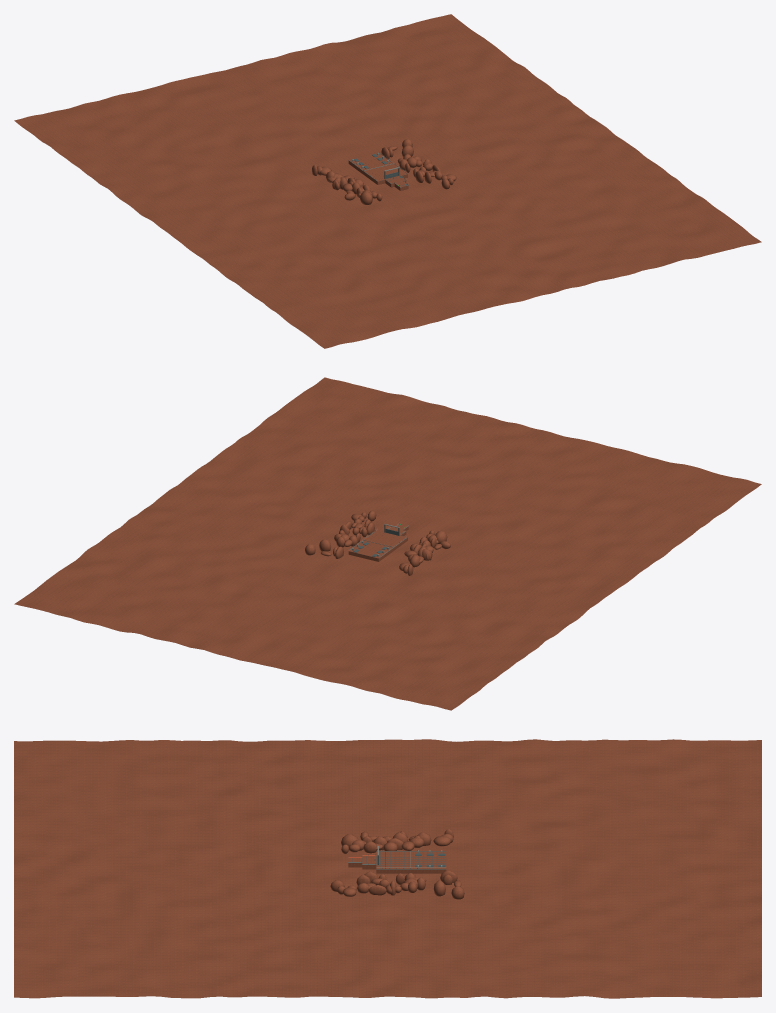
Rendered from mars_excavation.glb.
3 views of the same model, one above another, from view 1: azimuth 30°, elevation 25°; view 2: azimuth 150°, elevation 25°; view 3: azimuth 270°, elevation 25° (orthographic). The views are drawn at different scales.
Visible parts, largest first — view 1: Excavation regolith; view 2: Excavation regolith; view 3: Excavation regolith, Excavation steel.
Boxes of the visible parts, x1,y1,x2,y2 form: Excavation regolith: [14, 14, 761, 348]; Excavation regolith: [14, 377, 761, 710]; Excavation regolith: [14, 739, 761, 998]; Excavation steel: [348, 850, 445, 868].
Size of the model in its own units: 520 by 21.3 by 640.
Materials: 5 (1 with a texture image).
